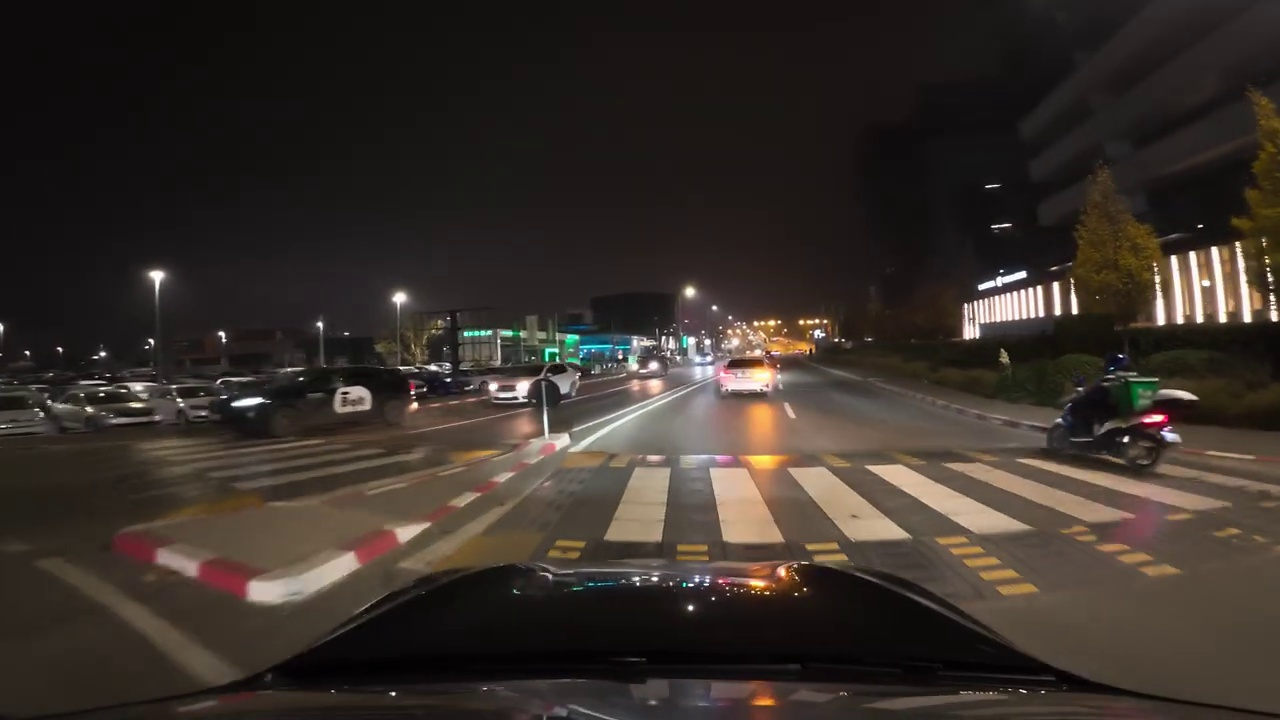acesa: (389, 287, 412, 312), (145, 266, 168, 290), (679, 282, 701, 302)
